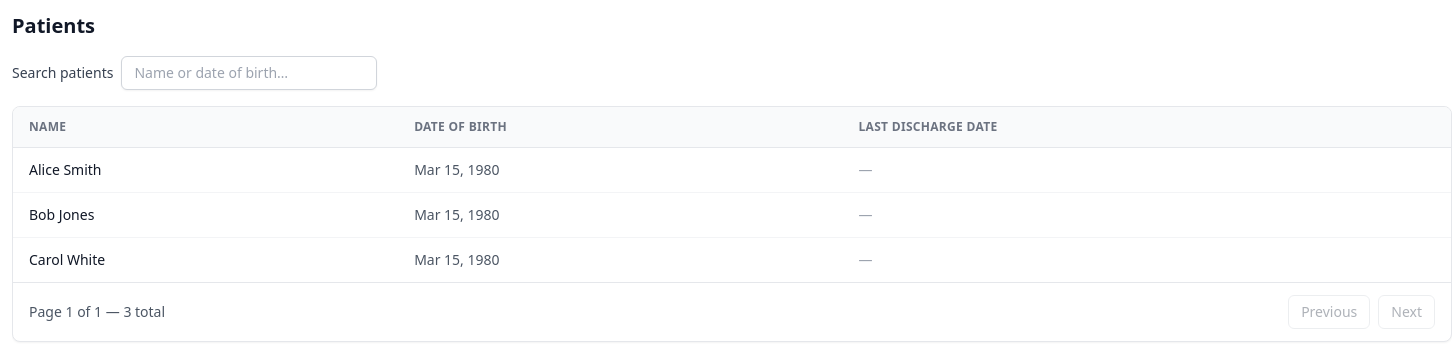
Test: 15.4 – Clearing search restores full patient list › renders the full unfiltered patient list after clearing search
Expected: the text "Alice Smith" is shown, [13,148,398,192]
Expected: the text "Bob Jones" is shown, [13,192,398,238]
Note: Search narrows to one result
Type "Alice" into the search field. click: {"x": 249, "y": 73}
box: [121,56,377,90]
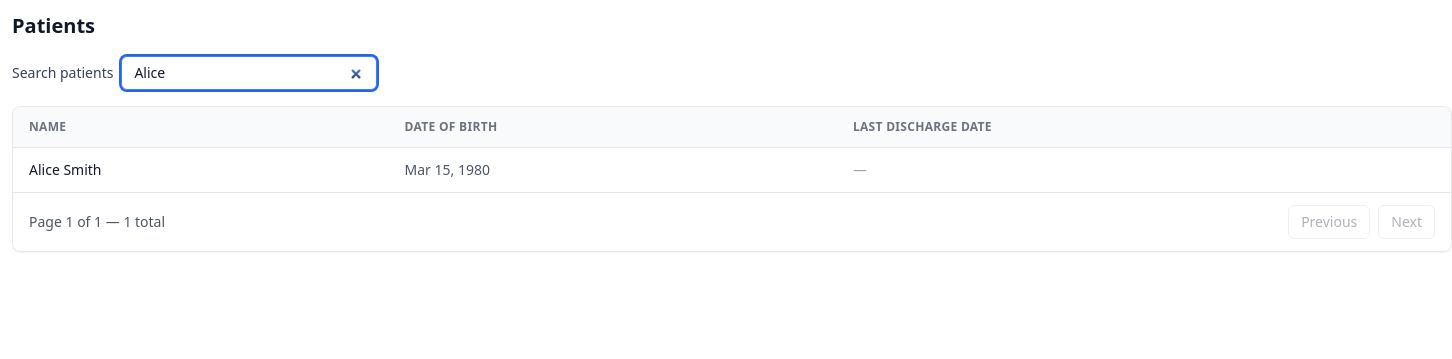
Result: the text "Bob Jones" is gone
Result: the text "Carol White" is gone
Note: Clear restores full list
Clear the search field. click: {"x": 249, "y": 73}
box: [121,56,377,90]
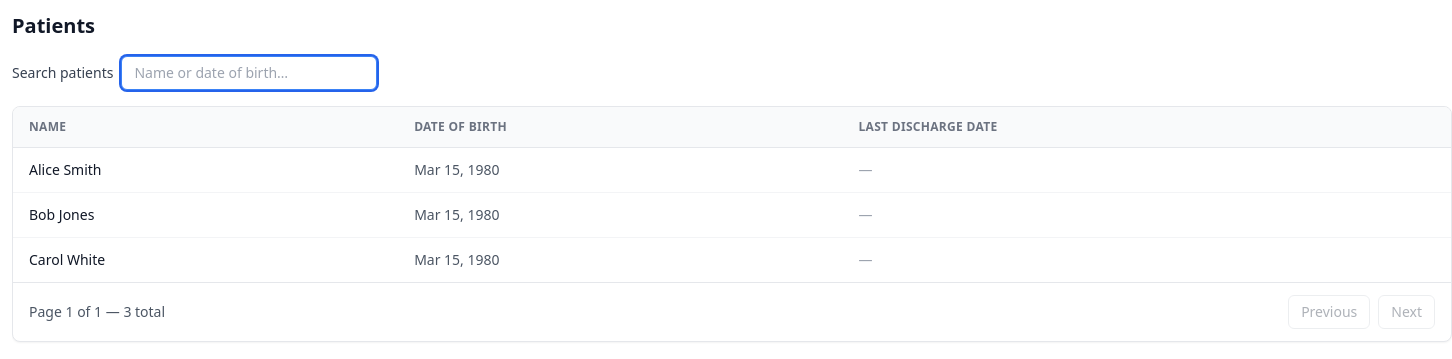
Result: the text "Bob Jones" is shown at [13,192,398,238]
Result: the text "Carol White" is shown at [13,238,398,282]
